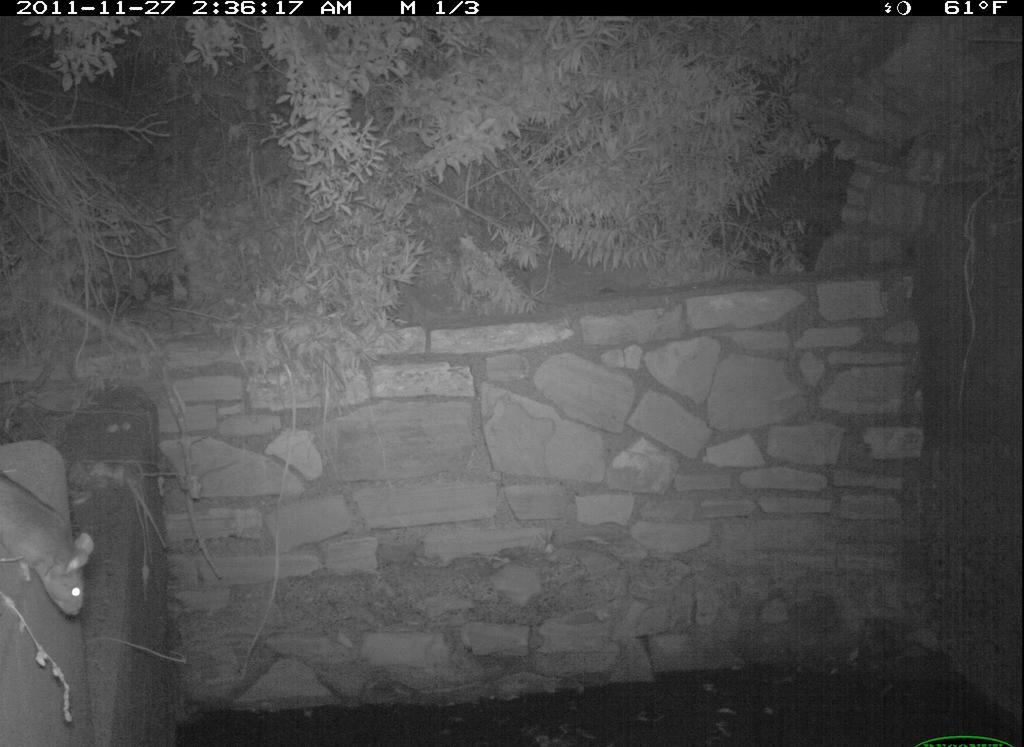rodent: (2, 452, 98, 630)
